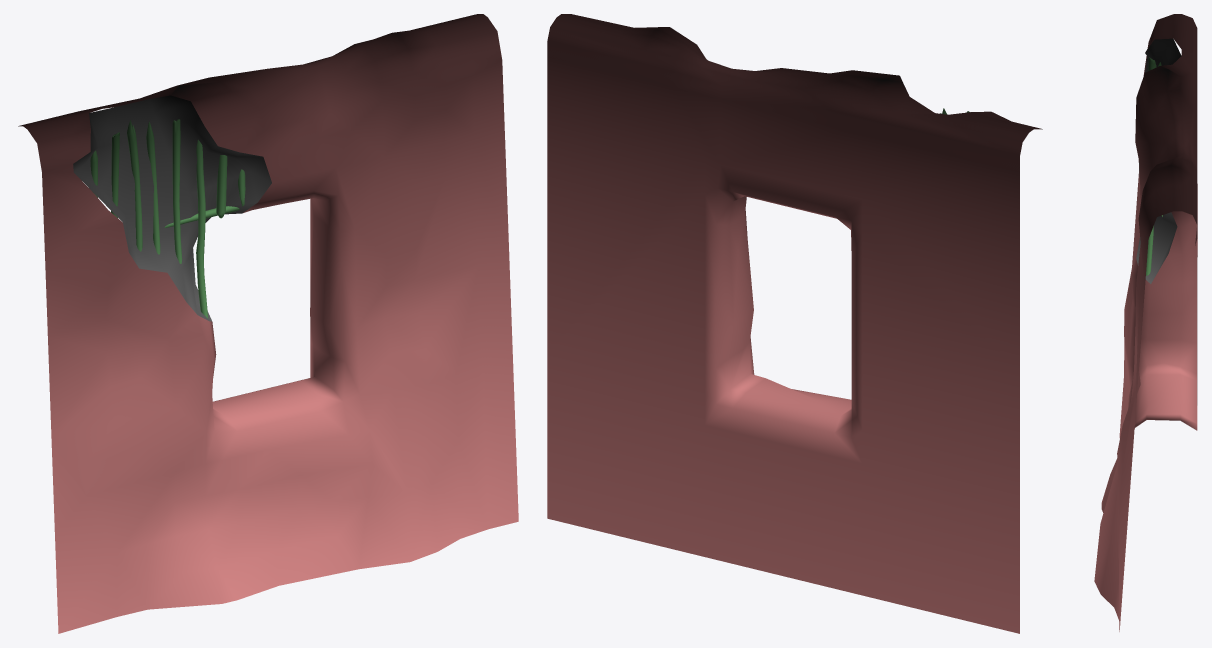
Rendered from wall_clay_window_B.gltf.
3 renders of one model, left to right at view 1: azimuth 30°, elevation 25°; view 2: azimuth 150°, elevation 25°; view 3: azimuth 270°, elevation 25°, orthographic. The views are drawn at different scales.
Visible parts, largest first — view 1: wall_clay_window_B; view 2: wall_clay_window_B; view 3: wall_clay_window_B.
Boxes of the visible parts, x1,y1,x2,y2 form: wall_clay_window_B: (18,14,518,633); wall_clay_window_B: (547,14,1042,633); wall_clay_window_B: (1094,14,1197,631).
Size of the model in its own units: 3 by 3.06 by 0.6639.
